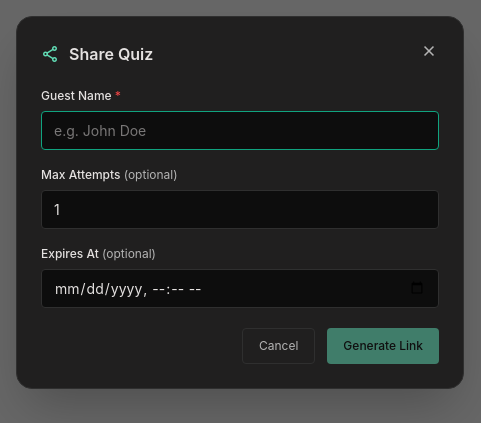
Test: ShareDialog › copies the generated link to the clipboard
Type "Jane Doe" into the field with placeholder "e.g. John Doe" at (240, 130), box 41,110 -> 439,150
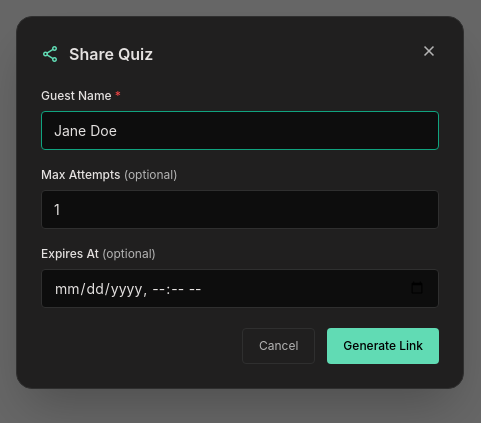
Click the button "Generate Link" at (383, 346), box 327,328 -> 439,364
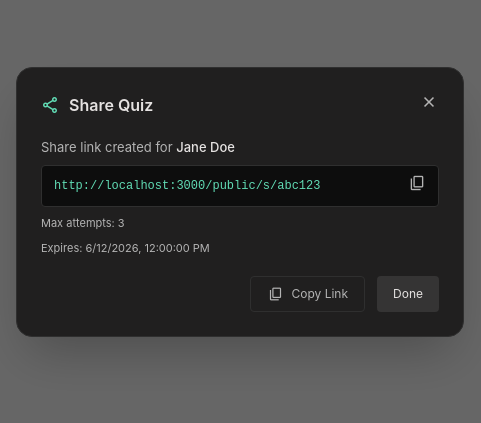
Now the button "Copy Link" is shown
Click the button "Copy Link" at (308, 294), box 250,276 -> 365,312
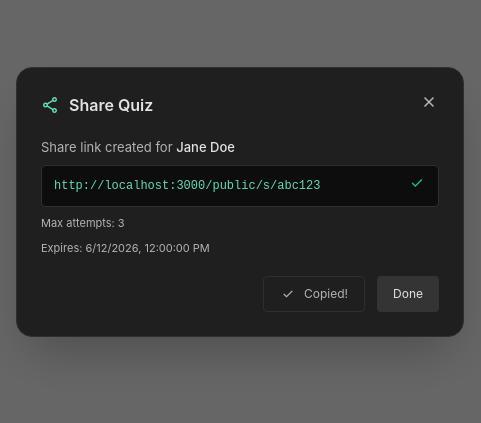
Now the button "Copied!" is shown, box 263,276 -> 365,312
